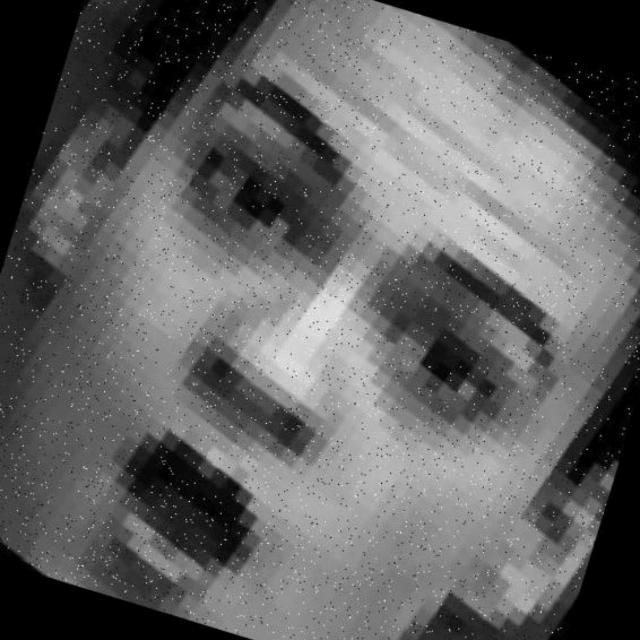Surprised: (29, 46, 640, 640)
